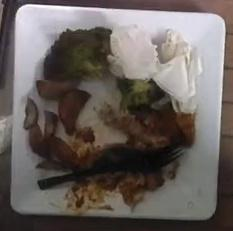broccoli: (44, 27, 113, 85), (117, 78, 166, 111), (37, 81, 55, 99)
potato: (24, 81, 94, 170)
unknown: (98, 102, 195, 149)
